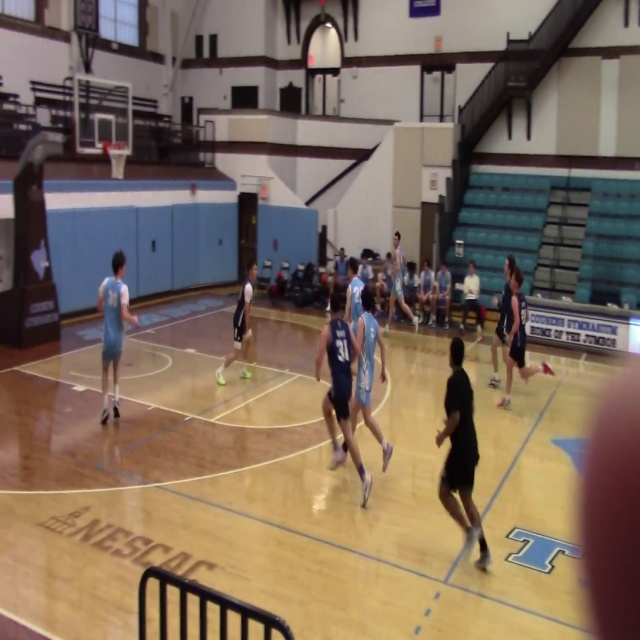Basketball: (541, 362, 555, 376)
